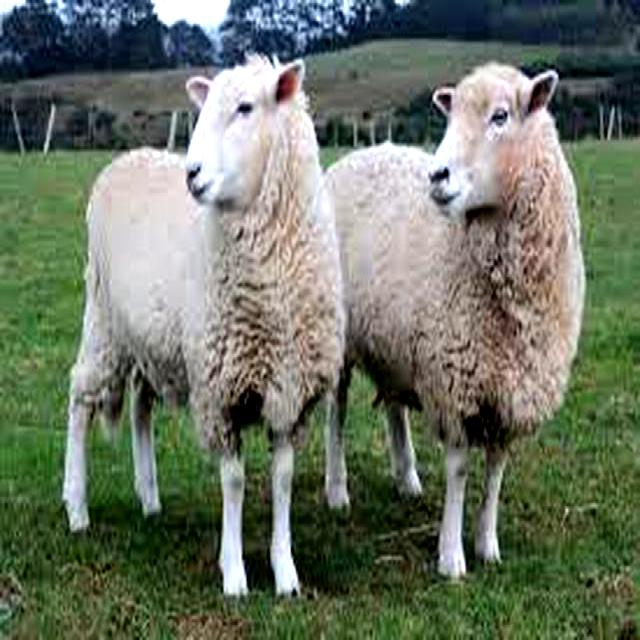sheep: (64, 52, 342, 601), (326, 60, 584, 578)
